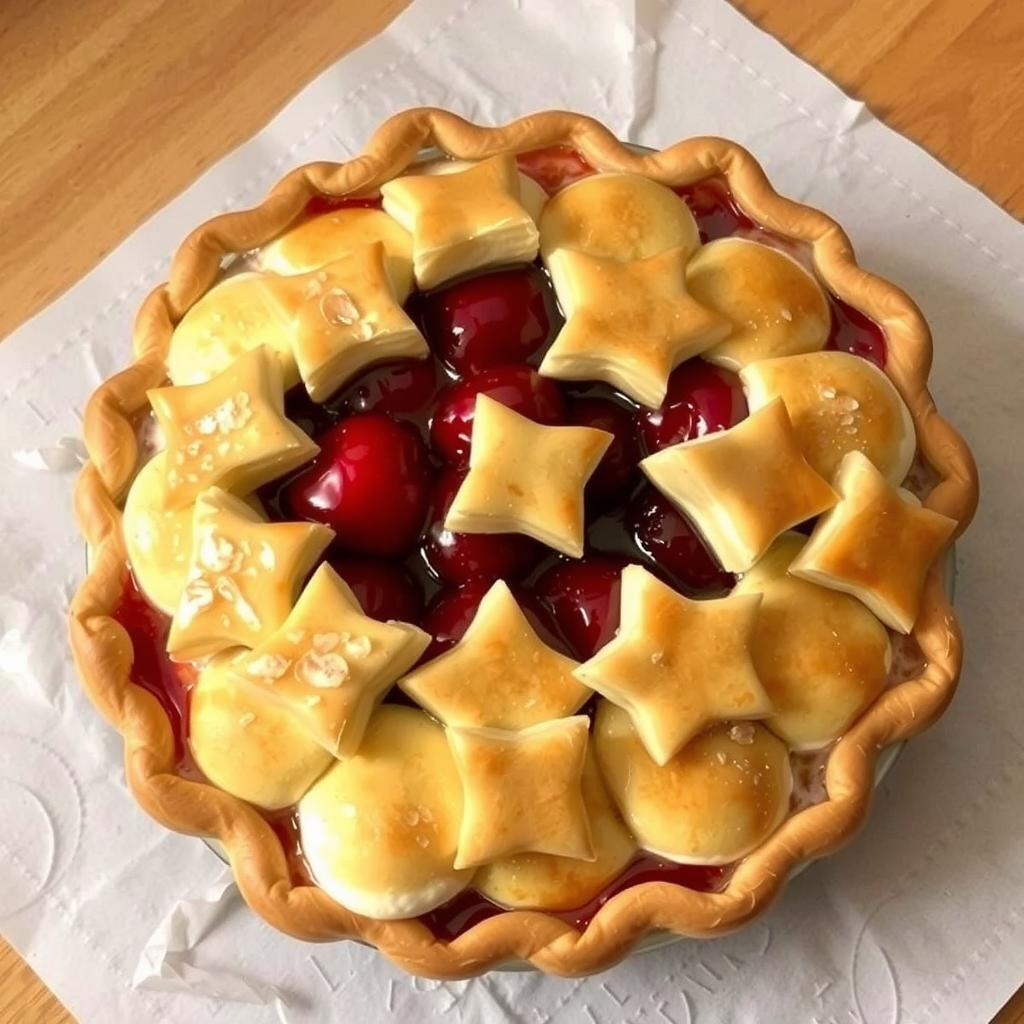pie: (71, 103, 983, 987)
